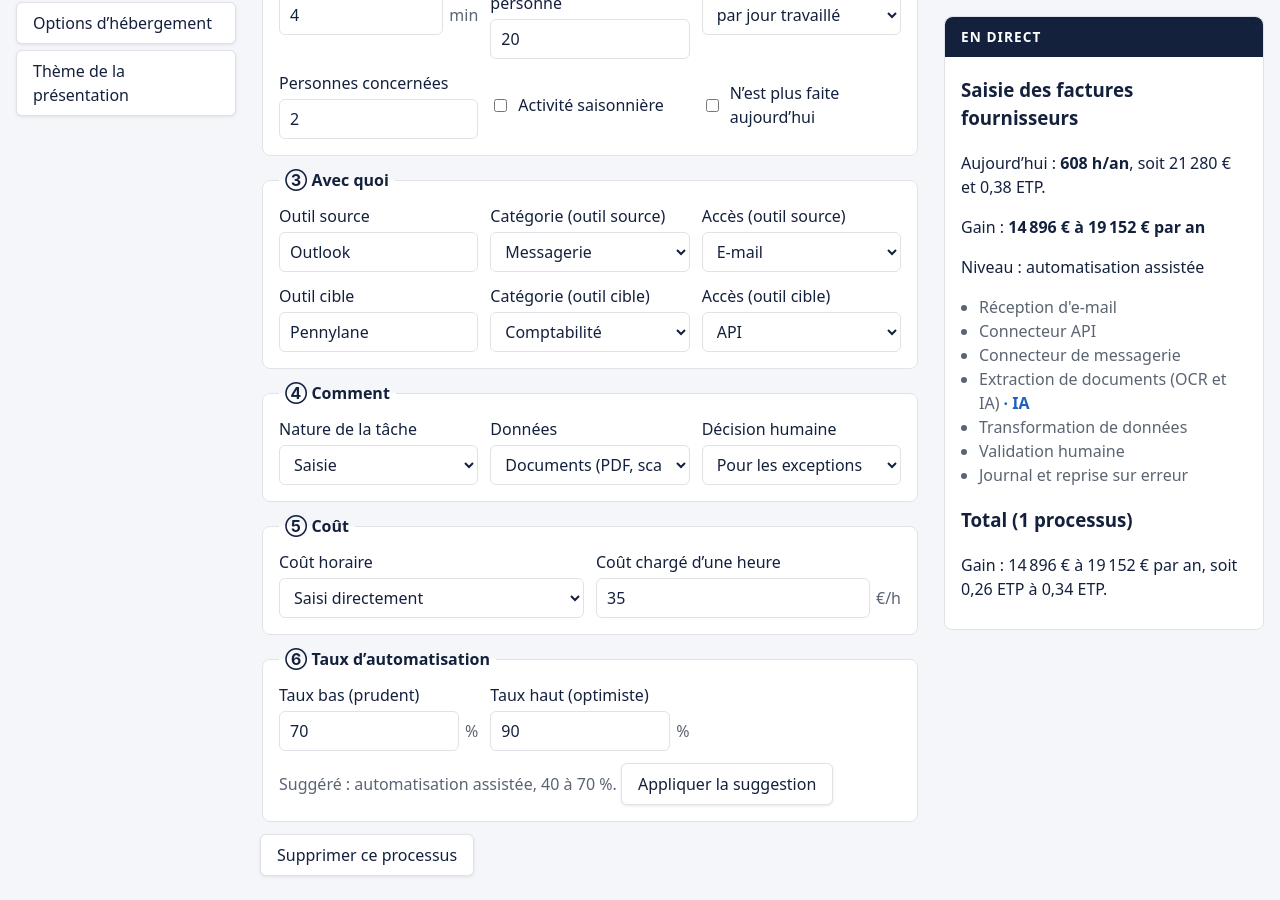
it: Entretien › supprime un processus après confirmation
The image size is (1280, 900).
(page scrolled)
Click the button "Supprimer ce processus" at (367, 855), box [260,834,474,876]
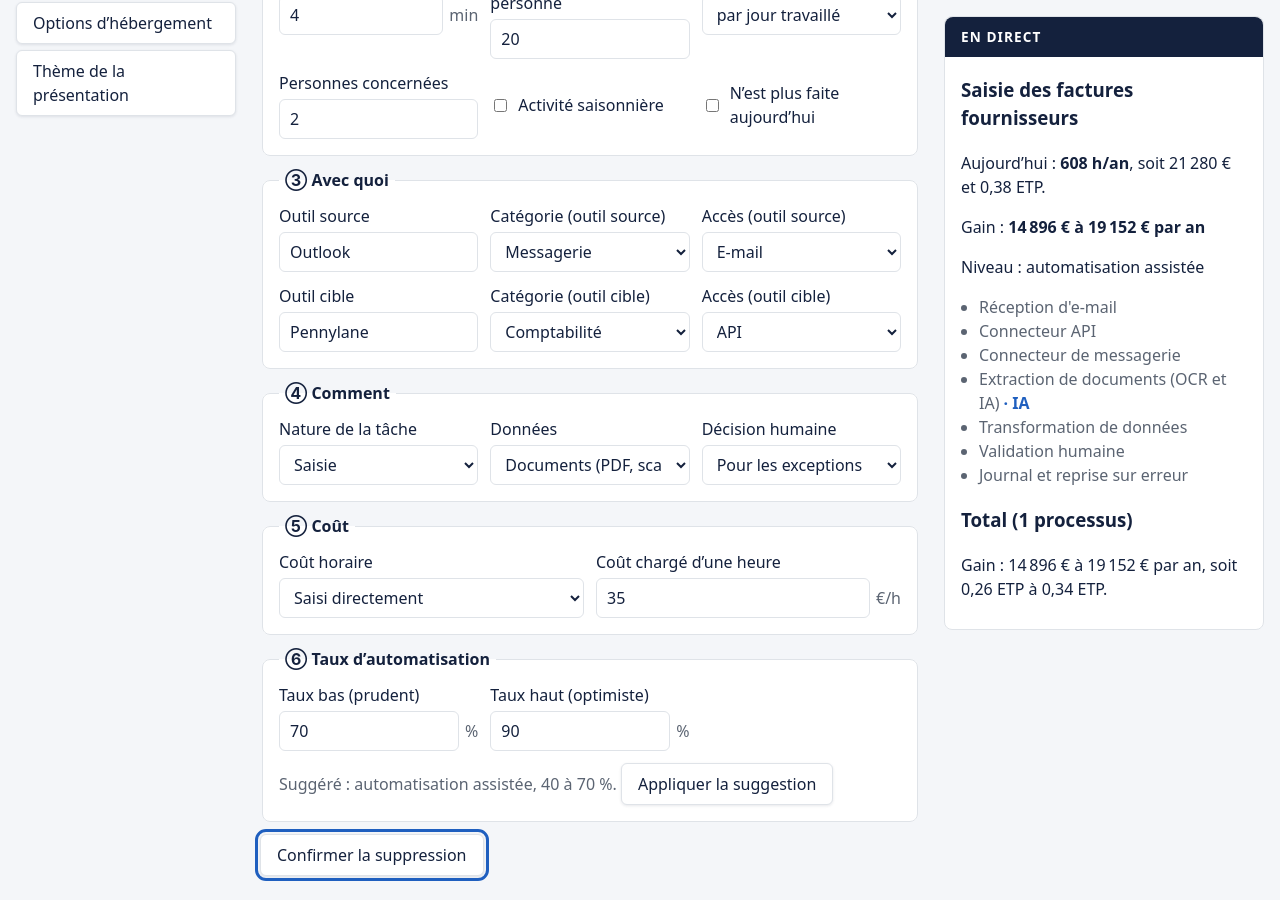
Click the button "Confirmer la suppression" at (372, 855), box [260,834,484,876]
(page scrolled)
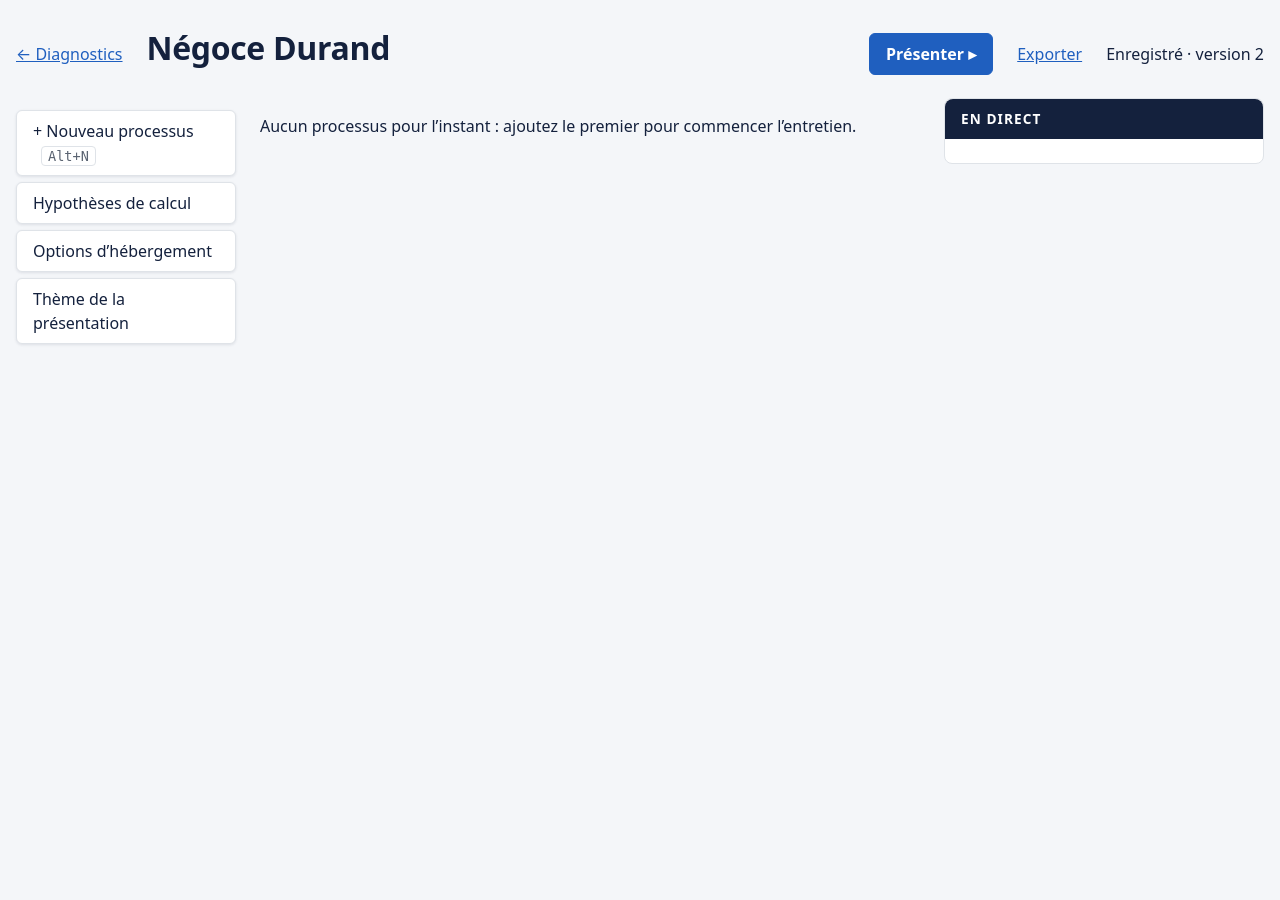
Result: the text "Aucun processus pour l’instant" is shown at [260,115,856,137]
